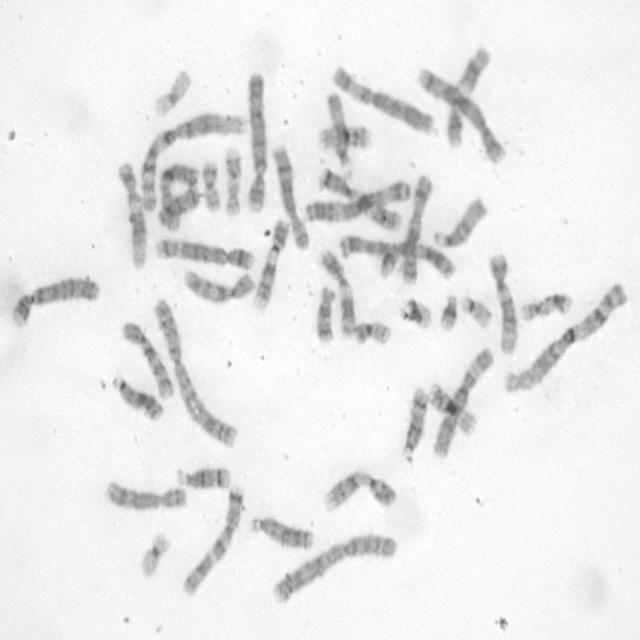A1: (500, 277, 630, 396), (135, 108, 249, 214)
A2: (150, 294, 239, 451), (267, 528, 400, 606)
A3: (335, 231, 458, 282), (303, 174, 410, 227)
B4: (8, 272, 102, 329), (243, 66, 268, 215)
B5: (414, 63, 506, 165), (151, 233, 256, 272)
C10: (119, 316, 175, 401), (178, 265, 256, 305)
C11: (442, 42, 492, 149), (316, 245, 356, 340)
C12: (115, 156, 148, 271), (486, 249, 518, 357)
C6: (328, 62, 437, 135), (430, 343, 496, 461)
C7: (178, 480, 244, 597), (317, 166, 403, 236)
C8: (269, 141, 312, 252), (103, 477, 188, 512)
C9: (250, 216, 292, 311), (320, 466, 398, 514)
D13: (108, 371, 165, 424), (249, 511, 315, 552)
D14: (399, 384, 429, 465), (172, 462, 233, 491)
D15: (429, 192, 489, 250), (323, 89, 354, 178)
E16: (425, 378, 478, 437), (314, 119, 374, 152)
E17: (518, 287, 574, 323), (220, 146, 246, 215)
E18: (157, 184, 201, 230), (313, 283, 337, 343)
F19: (151, 66, 193, 119), (136, 528, 172, 579)
F20: (351, 317, 393, 348), (200, 156, 222, 213)
G21: (399, 293, 434, 331), (436, 290, 460, 334)
G22: (458, 291, 494, 330), (379, 241, 398, 280)
X: (397, 171, 434, 287), (156, 157, 202, 233)
